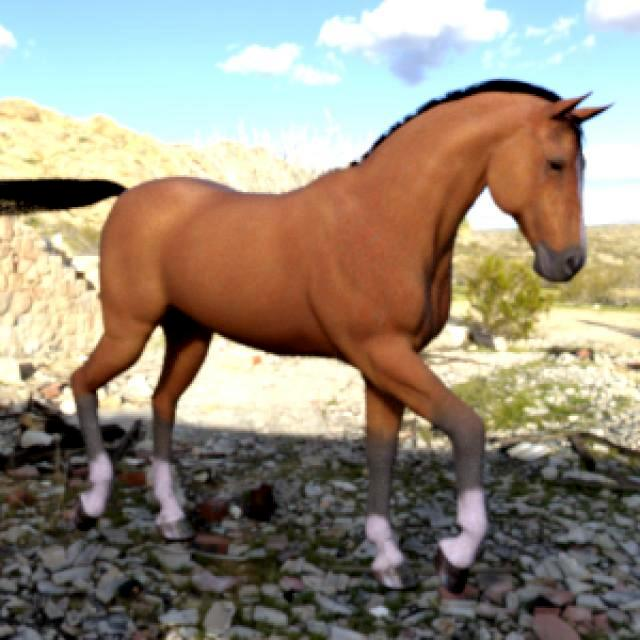horse: (0, 81, 607, 592)
